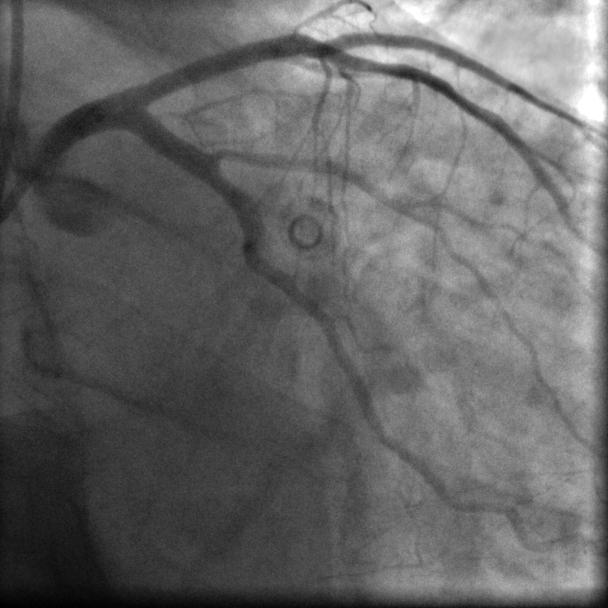Stenosis: (209, 141, 248, 165)
